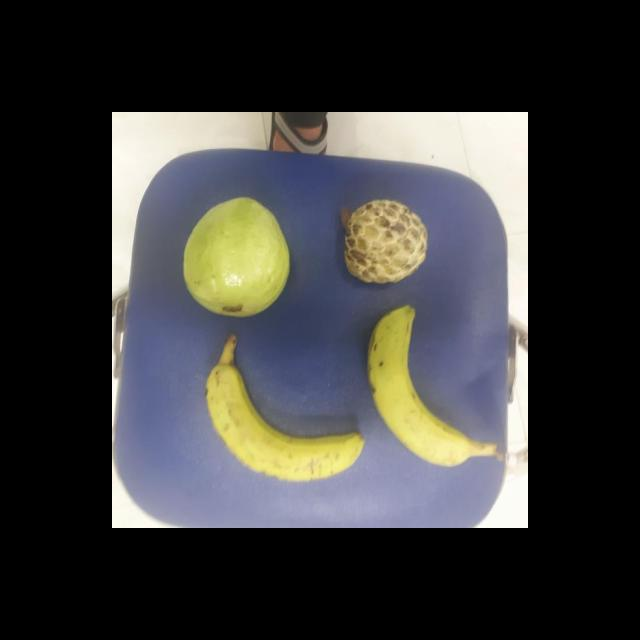Sakya fruit: (342, 197, 428, 290)
banana: (200, 362, 370, 486), (366, 304, 474, 474)
guava: (181, 197, 300, 321)
